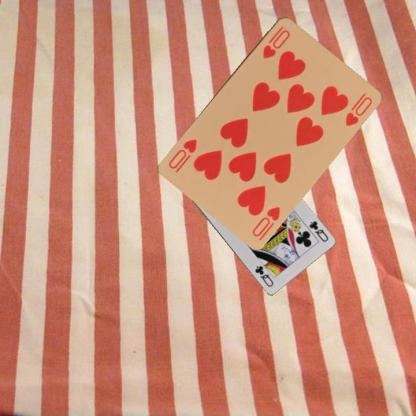10h: (260, 23, 292, 60), (250, 203, 282, 238)
Qc: (306, 218, 329, 243)
